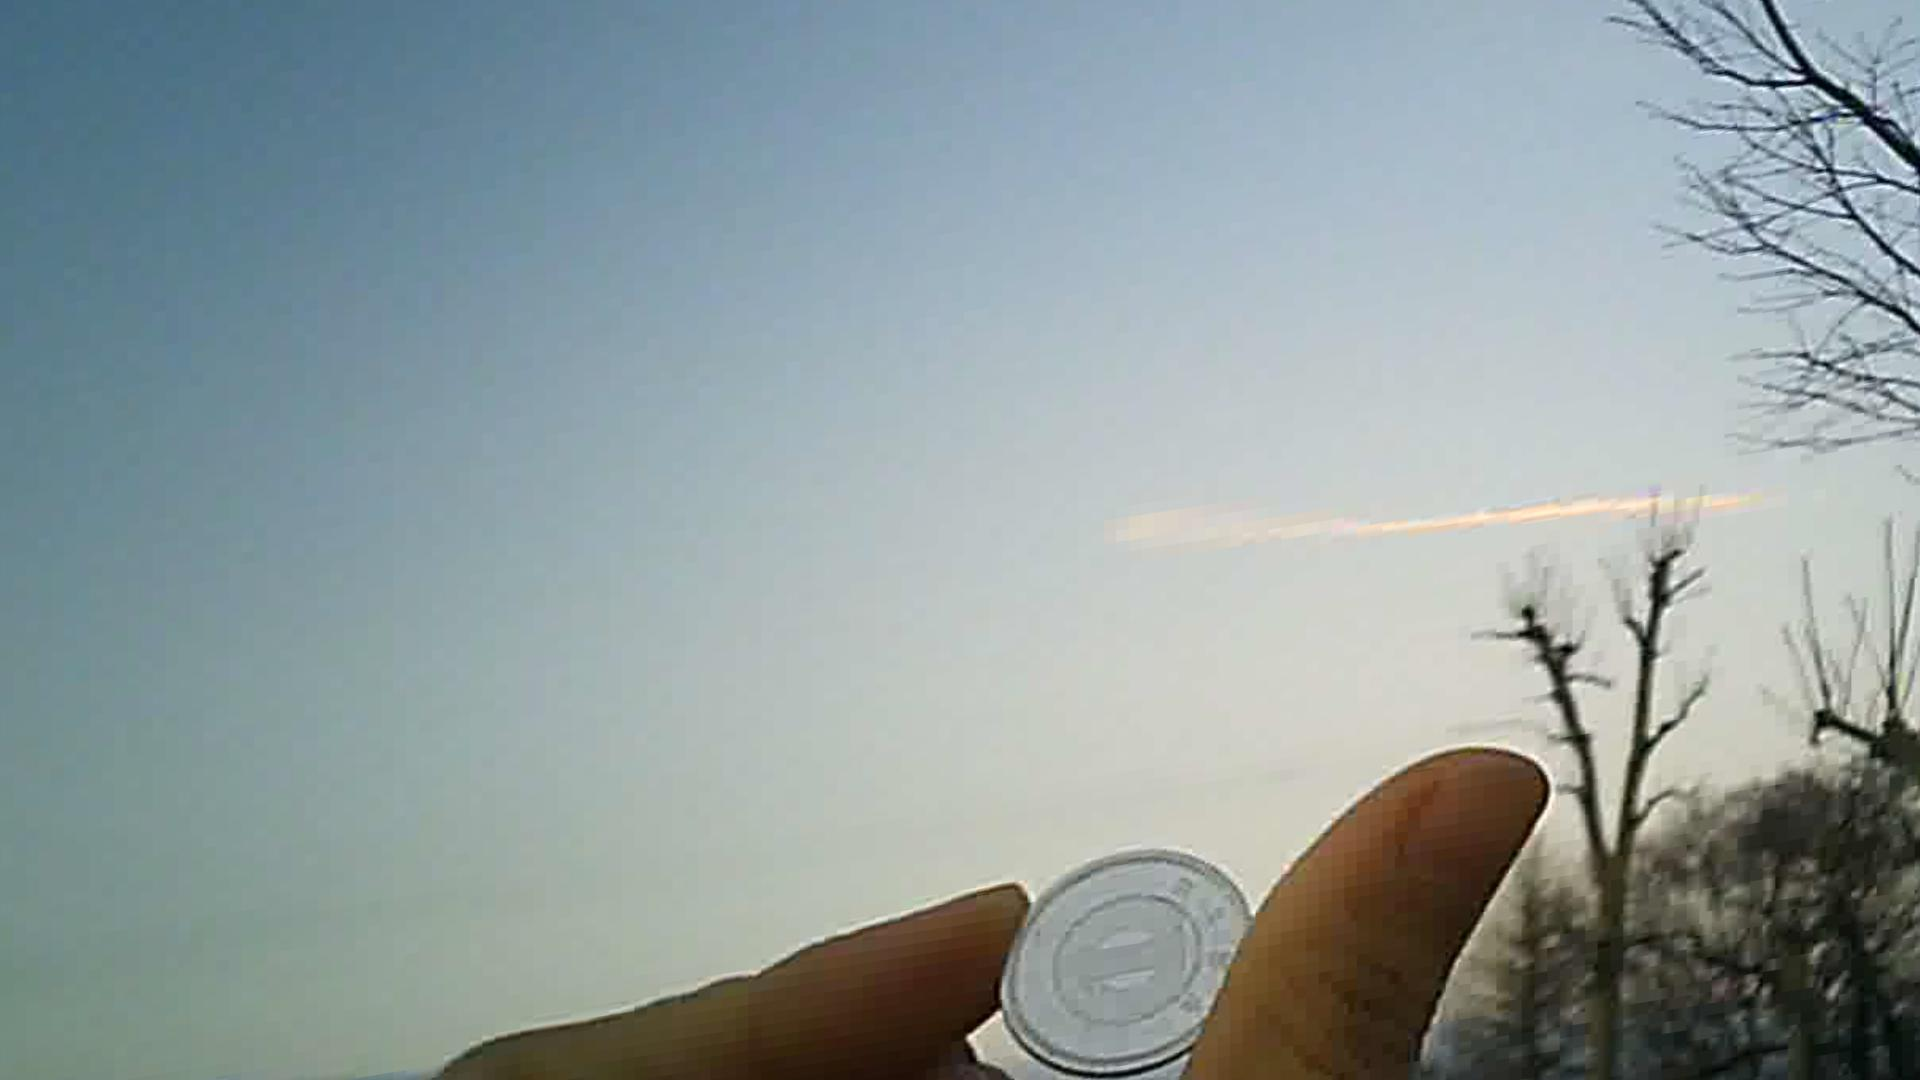1 Yen: (1001, 836, 1259, 1079)
